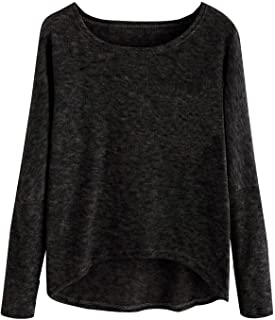tshirt: (1, 1, 273, 320)
